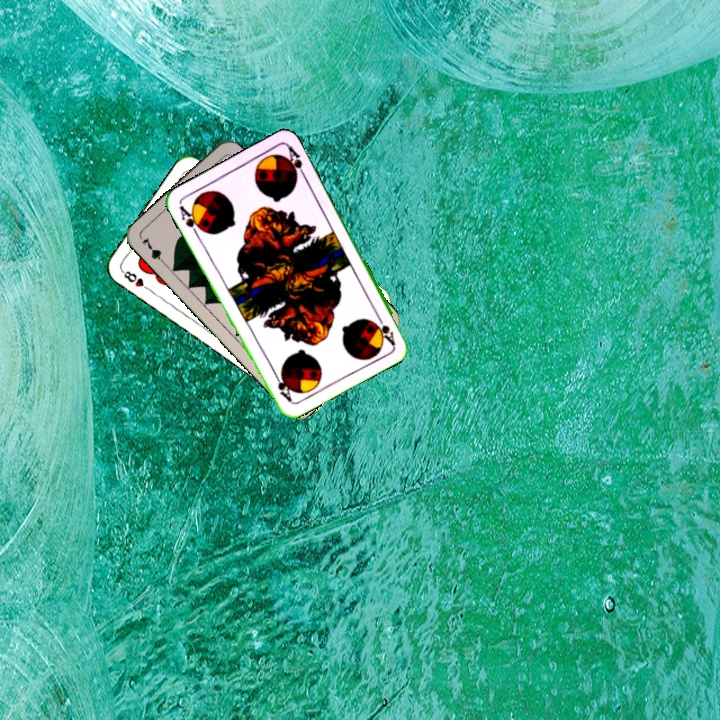G7: (137, 233, 169, 268)
H8: (118, 266, 154, 294)
SA: (175, 201, 206, 239), (371, 309, 398, 347)
